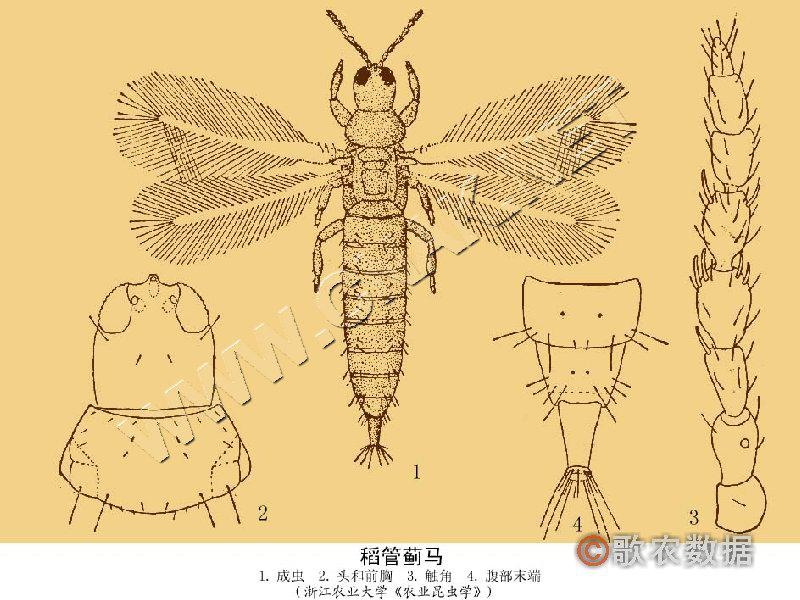pest: (316, 45, 437, 447), (693, 24, 784, 534)
